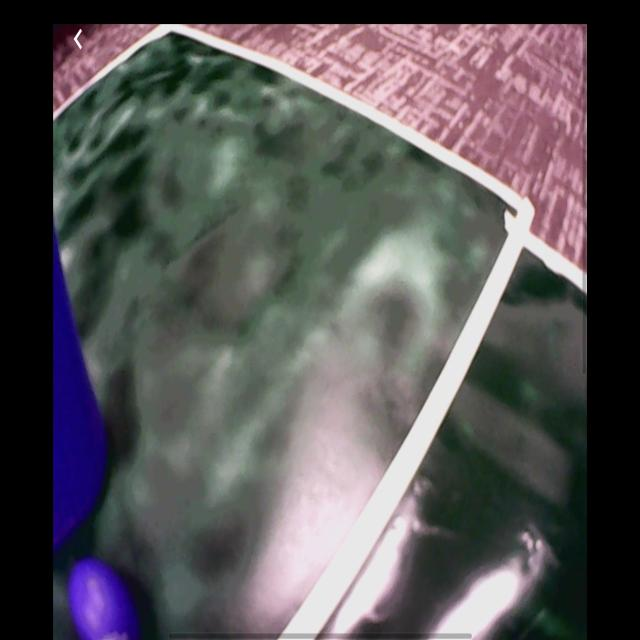ball: (69, 555, 138, 640)
